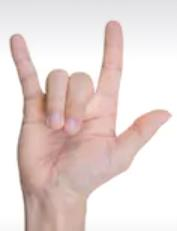back: (5, 16, 174, 197)
